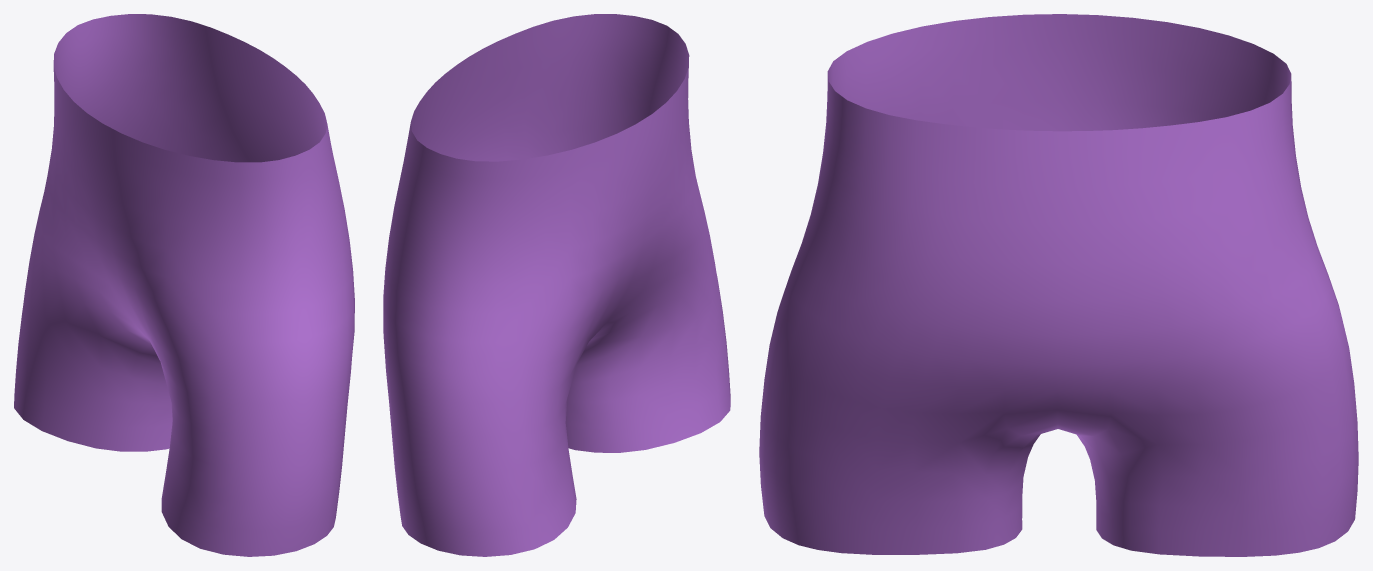
File: Pant01.fbx
The picture shows the model from 3 angles, left to right: view 1: azimuth 30°, elevation 25°; view 2: azimuth 150°, elevation 25°; view 3: azimuth 270°, elevation 25°; orthographic projection. The views are drawn at different scales.
Parts seen in each view (by area): view 1: Pant01; view 2: Pant01; view 3: Pant01.
Part boxes in pixels (bbox=[...]): Pant01: bbox=[14, 14, 354, 556]; Pant01: bbox=[383, 14, 730, 556]; Pant01: bbox=[759, 14, 1358, 556].
Bounding box in the file's own units: 208 × 333 × 402.
